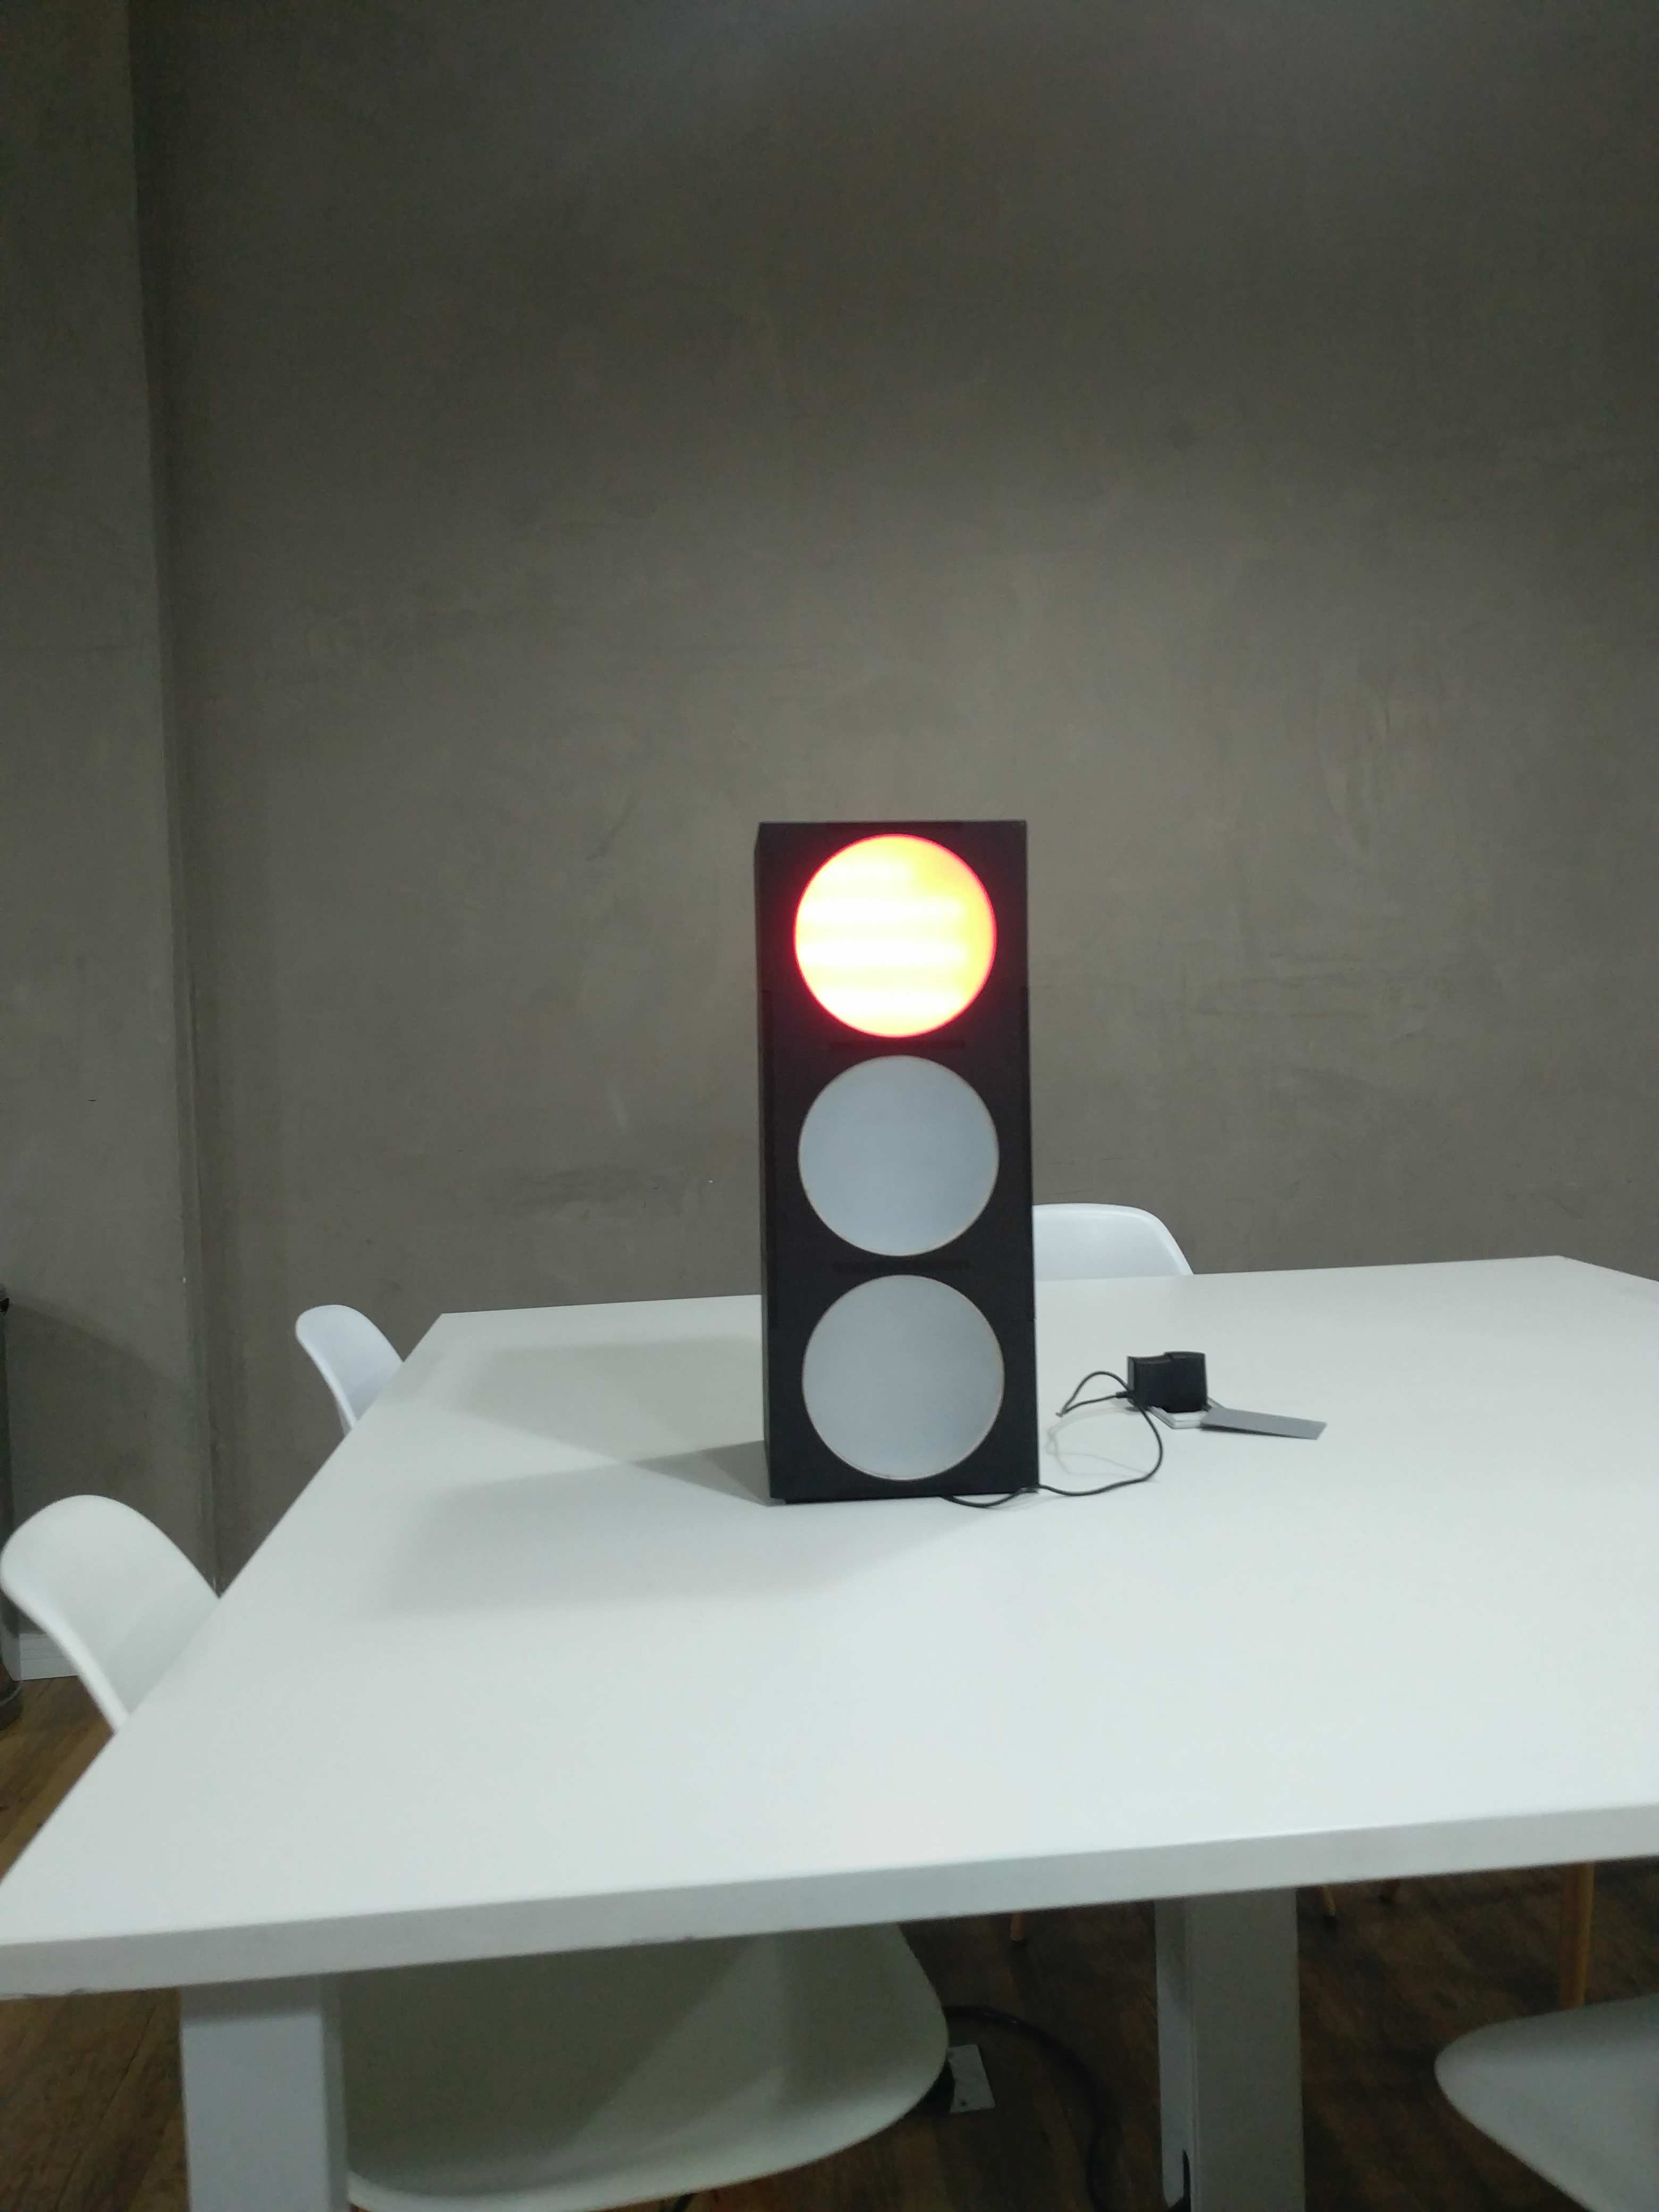stop: (755, 803, 1039, 1501)
